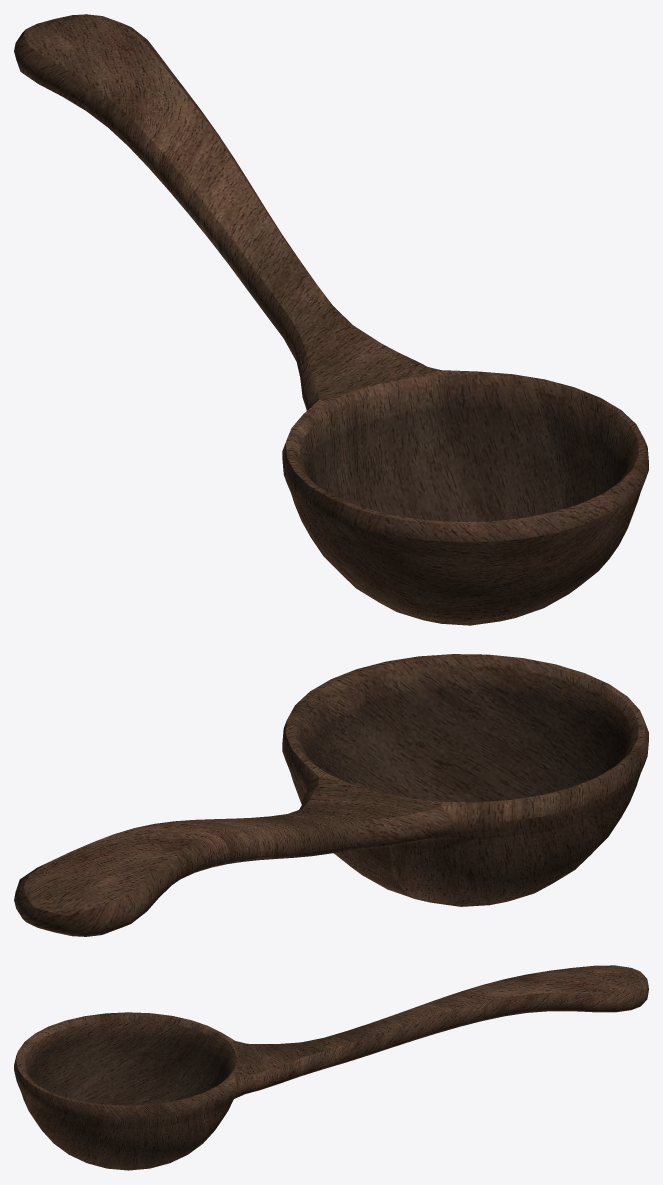
The model's file is ladle_wood.glb.
The picture shows the model from 3 angles, top to bottom: view 1: azimuth 30°, elevation 25°; view 2: azimuth 150°, elevation 25°; view 3: azimuth 270°, elevation 25°; orthographic projection. The views are drawn at different scales.
Parts seen in each view (by area): view 1: Wooden Laddle_DefaultMaterial_0; view 2: Wooden Laddle_DefaultMaterial_0; view 3: Wooden Laddle_DefaultMaterial_0.
Boxes of the visible parts, x1,y1,x2,y2 form: Wooden Laddle_DefaultMaterial_0: (14,14,648,625); Wooden Laddle_DefaultMaterial_0: (14,654,648,936); Wooden Laddle_DefaultMaterial_0: (14,965,648,1170).
Bounding box in the file's own units: 0.0141 × 0.0124 × 0.039.
1 material, 1 textured.
